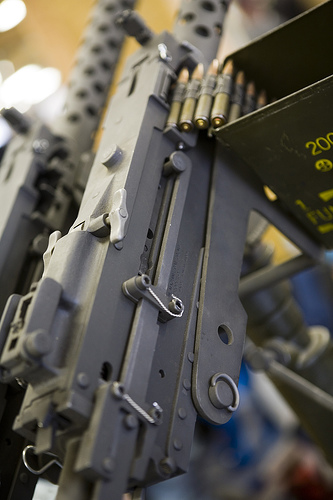rifle: (25, 11, 262, 464)
